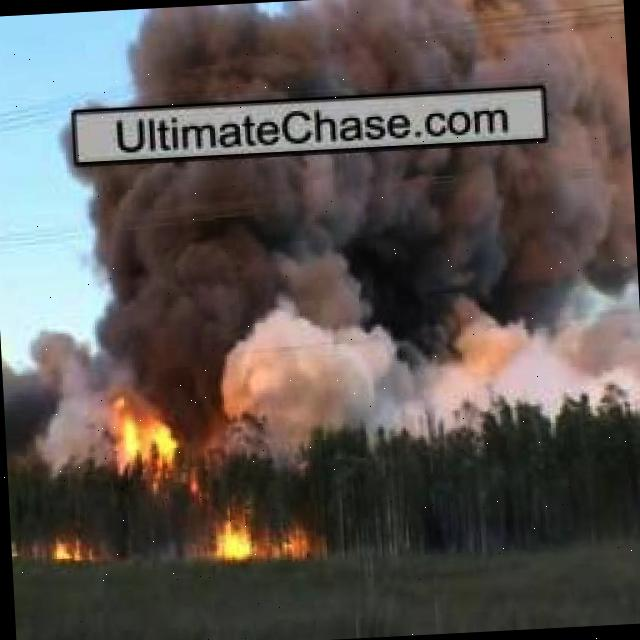fire: (104, 388, 182, 484), (214, 516, 259, 556), (284, 520, 316, 562), (52, 538, 87, 560)
